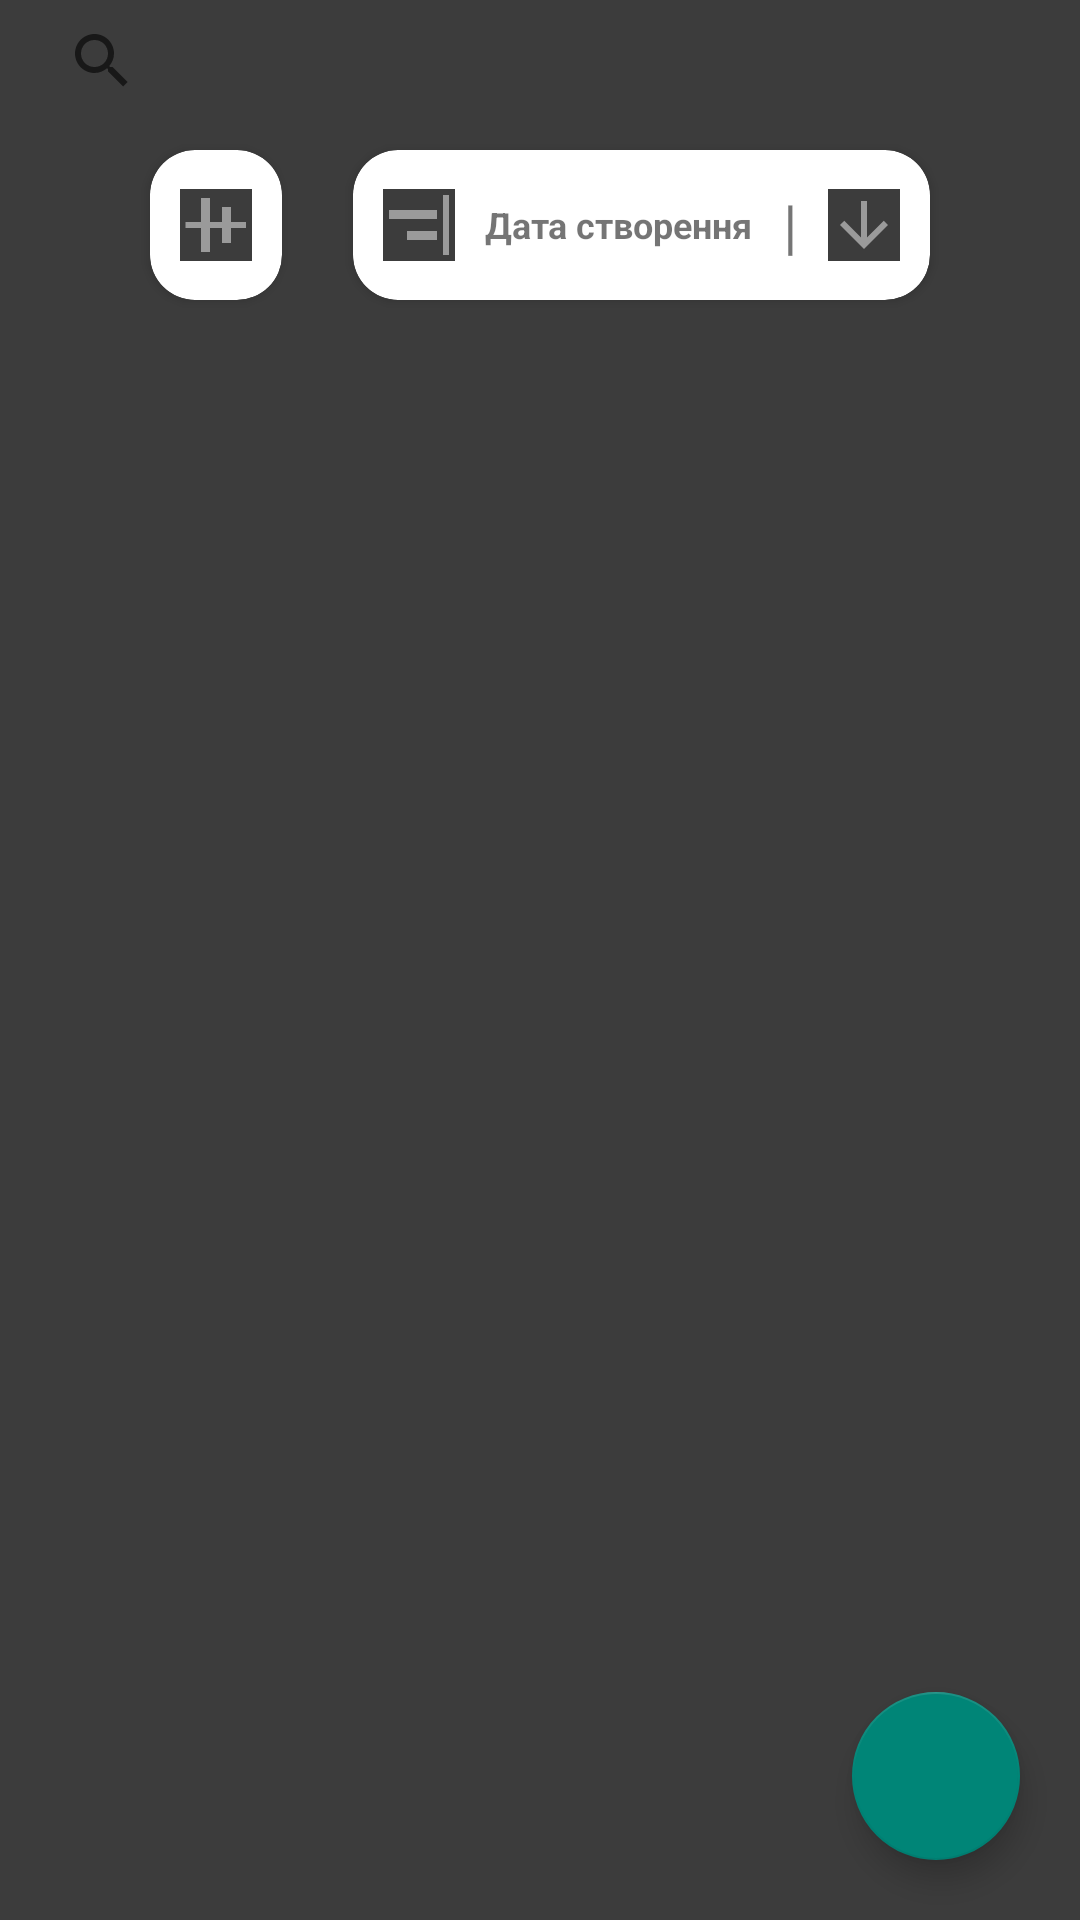

Icon click points for this 1080x1920 phone screenshot, format (x,y):
arrow type: (864,225)
